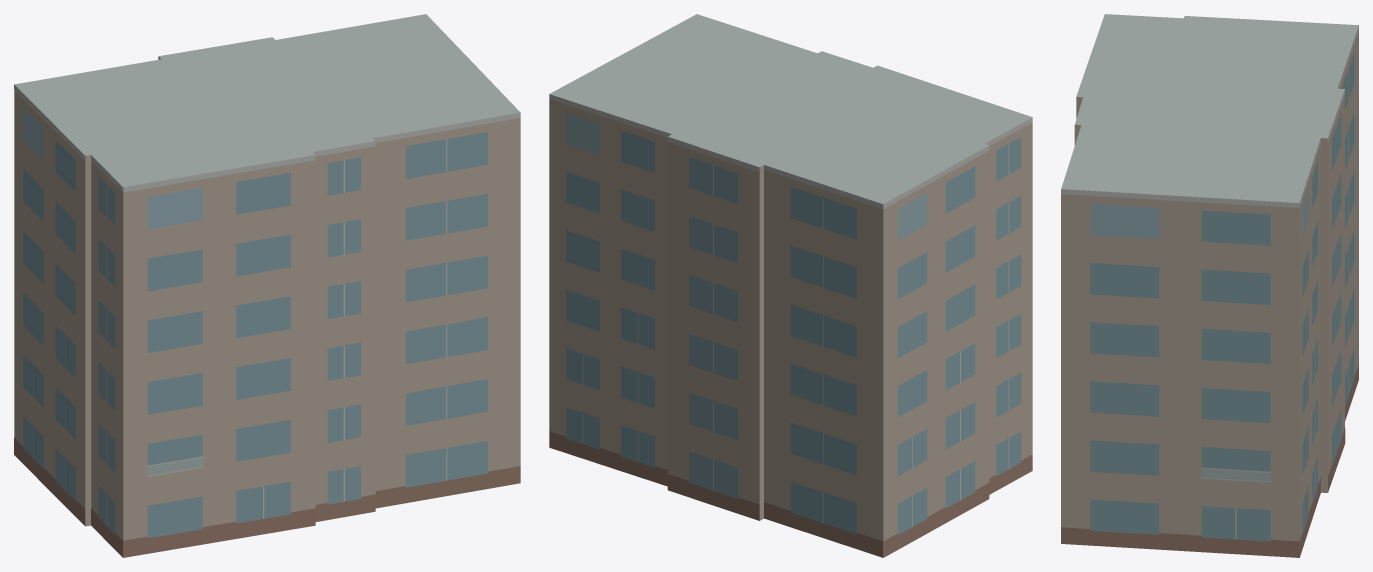
The model's file is survey-upis-32514608.glb.
3 views of the same model, side by side, from view 1: azimuth 30°, elevation 25°; view 2: azimuth 150°, elevation 25°; view 3: azimuth 270°, elevation 25° (orthographic). The views are drawn at different scales.
Parts seen in each view (by area): view 1: survey-upis-32514608.tmp; view 2: survey-upis-32514608.tmp; view 3: survey-upis-32514608.tmp.
Boxes of the visible parts, <box> form: survey-upis-32514608.tmp: <box>14,14,520,557</box>; survey-upis-32514608.tmp: <box>549,14,1032,557</box>; survey-upis-32514608.tmp: <box>1061,14,1358,557</box>.
Size of the model in its own units: 19.56 by 17.1 by 13.02.
